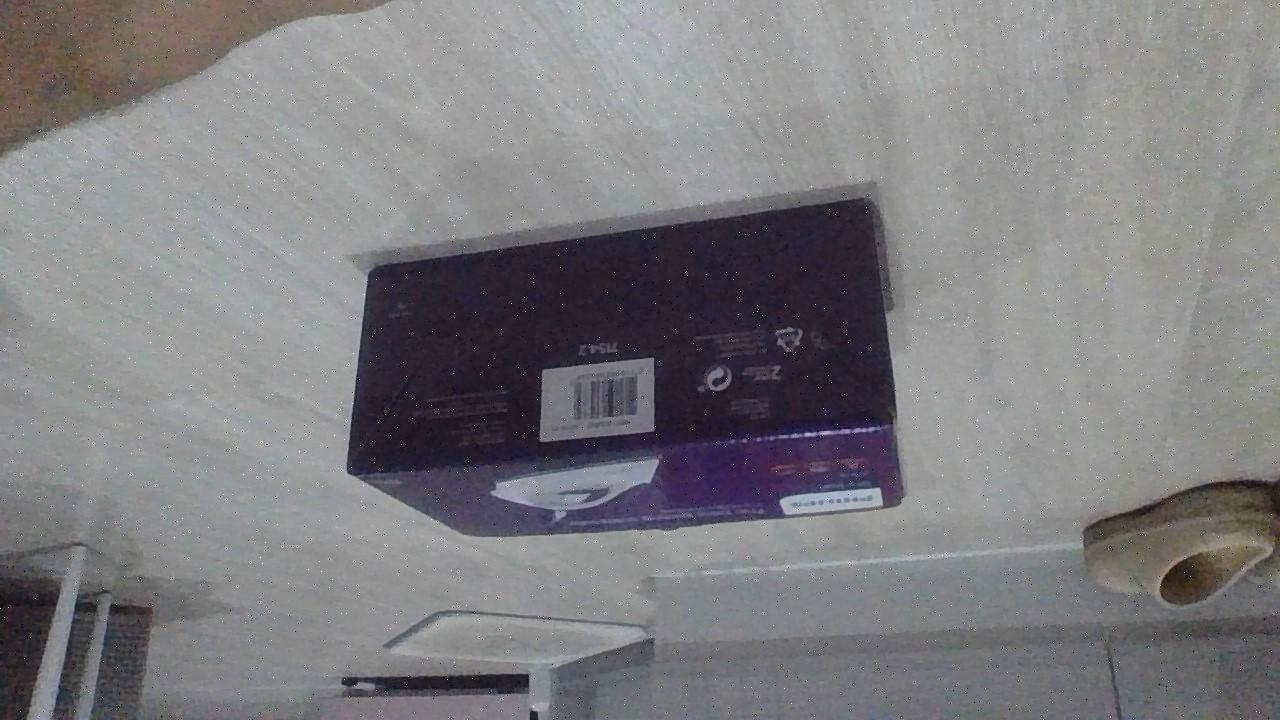IRON: (344, 195, 911, 543)
